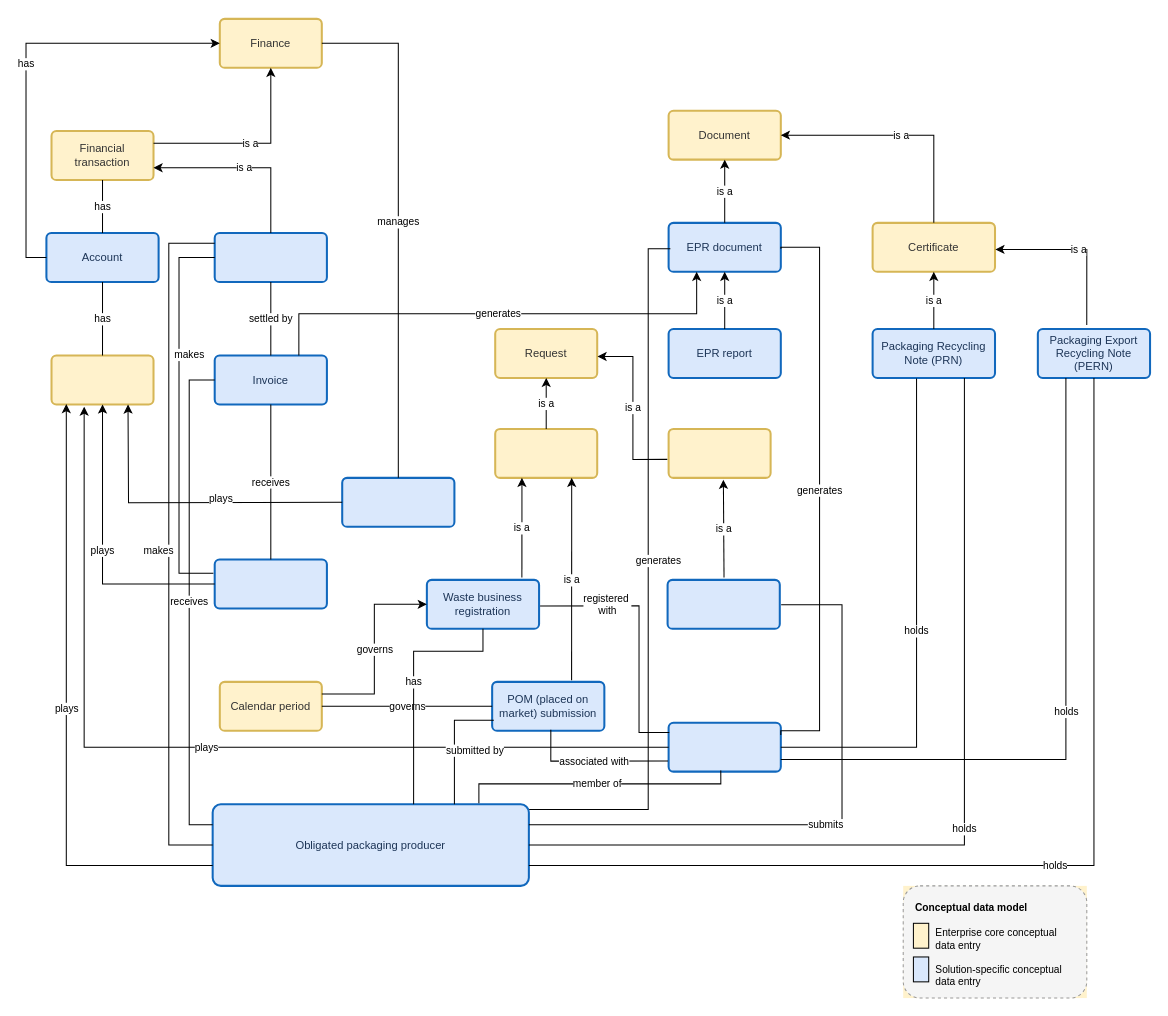
Some shapes in this 1168 by 1016 pixel diagram are drawn without their labels. The shapes that lost their labels are listed below. From the top down, each one's centre as x and y in pixels, then its label:
At [270,257]: "Payment".
At [102,379]: "Party in role".
At [546,452]: "Submission".
At [719,452]: "Application".
At [398,501]: "EPR Financial Services Supplier".
At [270,583]: "Local authority".
At [723,603]: "EPR enrolment application".
At [724,746]: "Packaging waste compliance scheme".
